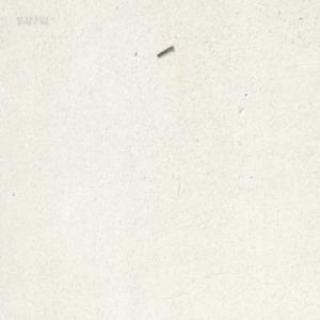Bolttrack_idkeyframe: (155, 43, 173, 56)
